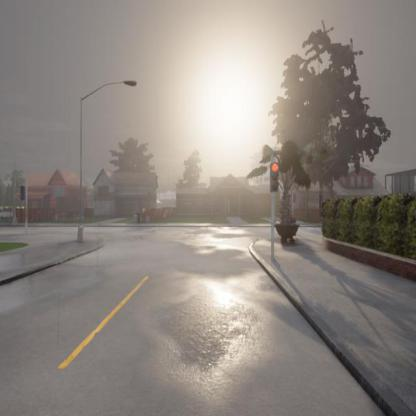traffic_light_red: (270, 164, 280, 191)
